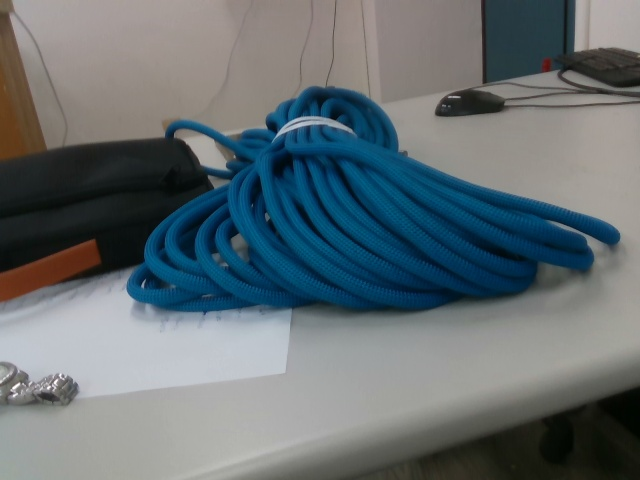rope: (125, 82, 625, 315)
